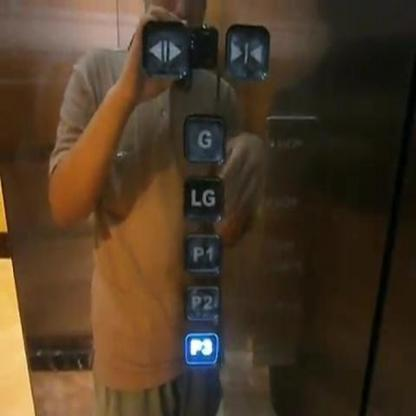G: (181, 110, 226, 166)
LG: (181, 174, 226, 223)
P1: (182, 229, 224, 276)
P2: (182, 281, 223, 327)
P3: (183, 330, 219, 365)
close: (222, 21, 270, 82)
open: (143, 20, 190, 79)
